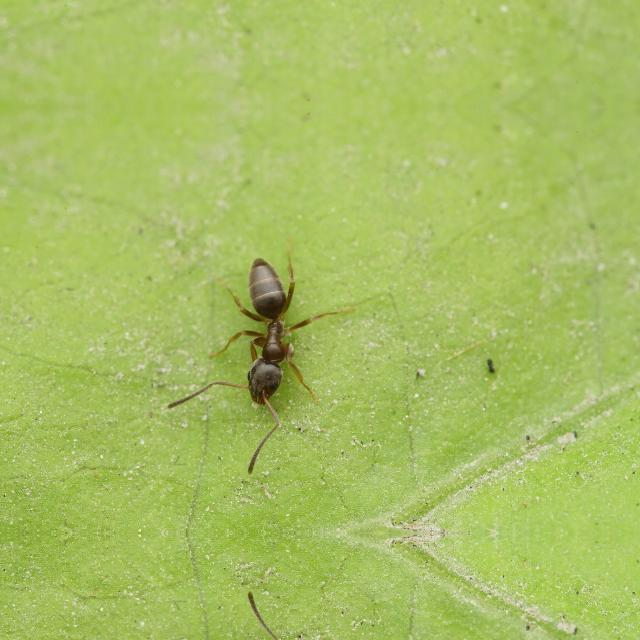Tapinoma: (200, 248, 336, 424)
